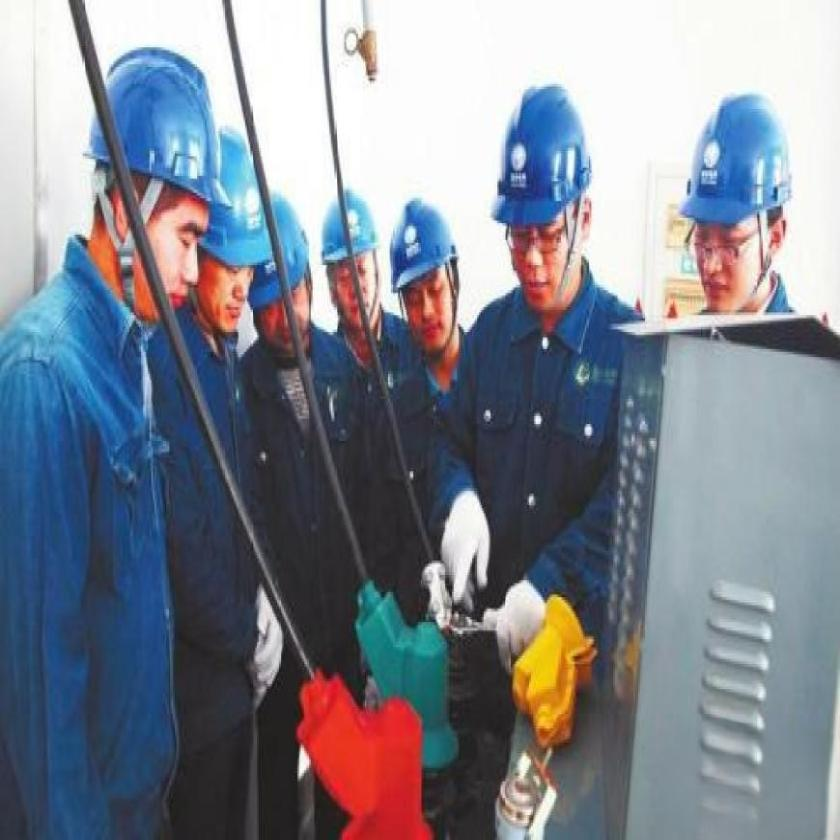Con_casco: (80, 46, 223, 330), (481, 82, 602, 340)
